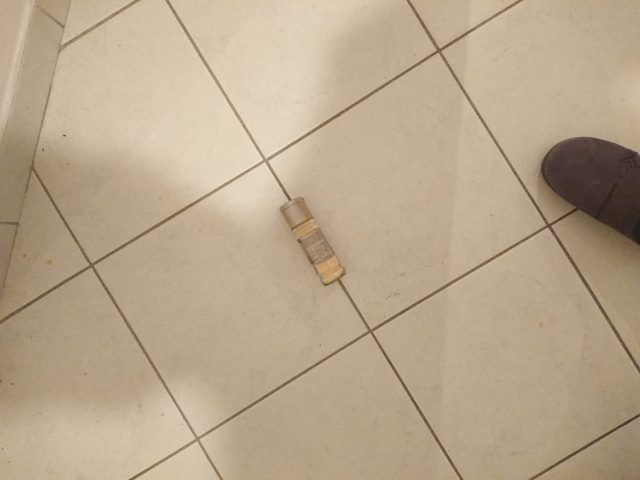Kotanyi Garlic Granules 70g: (278, 195, 349, 288)
